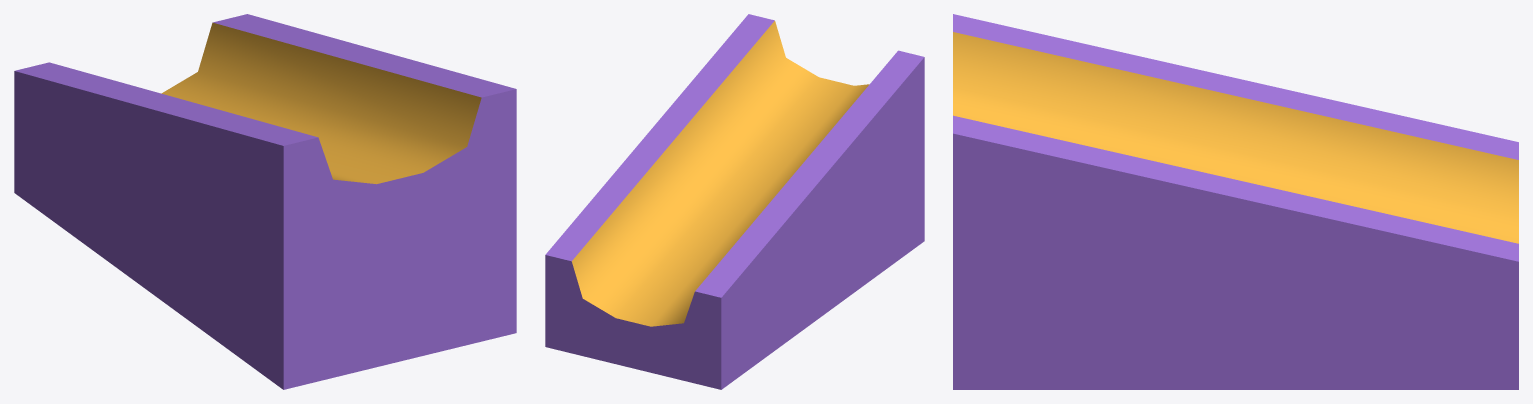
Rendered from kenney-marble-slant-solid-long-b.glb.
3 renders of one model, left to right at view 1: azimuth 30°, elevation 25°; view 2: azimuth 150°, elevation 25°; view 3: azimuth 270°, elevation 25°, orthographic. The views are drawn at different scales.
Parts seen in each view (by area): view 1: slant-solid-long-b; view 2: slant-solid-long-b; view 3: slant-solid-long-b.
Boxes of the visible parts, x1,y1,x2,y2 form: slant-solid-long-b: (14,14,516,389); slant-solid-long-b: (545,14,924,389); slant-solid-long-b: (953,14,1518,389).
Size of the model in its own units: 1 by 1 by 2.
1 material, 1 textured.
